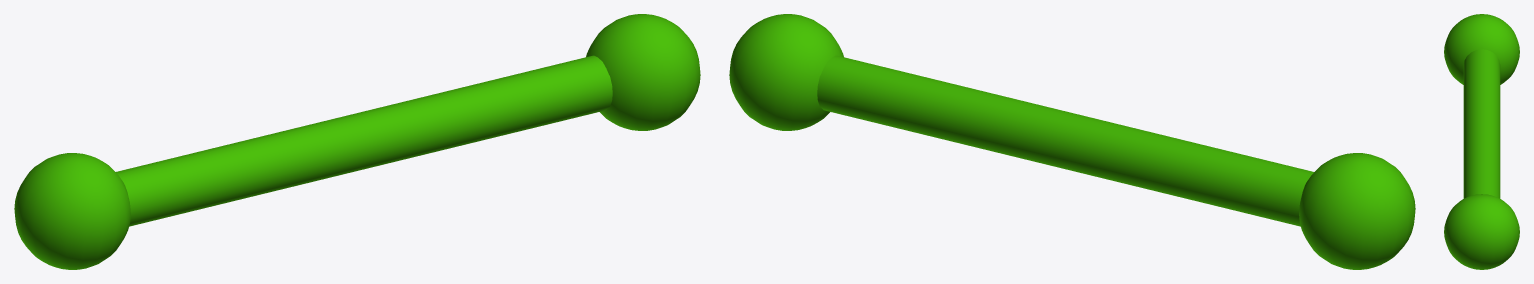
File: Grn Line Powerup.fbx
3 renders of one model, left to right at view 1: azimuth 30°, elevation 25°; view 2: azimuth 150°, elevation 25°; view 3: azimuth 270°, elevation 25°, orthographic. The views are drawn at different scales.
Visible parts, largest first — view 1: pCylinder2, pSphere2, pSphere1; view 2: pCylinder2, pSphere2, pSphere1; view 3: pCylinder2, pSphere1, pSphere2.
Boxes of the visible parts, x1=… form: pCylinder2: x1=115, y1=55, x2=612, y2=226; pSphere2: x1=14, y1=153, x2=130, y2=269; pSphere1: x1=586, y1=14, x2=700, y2=130; pCylinder2: x1=817, y1=55, x2=1314, y2=226; pSphere2: x1=1299, y1=153, x2=1415, y2=269; pSphere1: x1=729, y1=14, x2=843, y2=130; pCylinder2: x1=1463, y1=49, x2=1500, y2=198; pSphere1: x1=1444, y1=194, x2=1519, y2=269; pSphere2: x1=1444, y1=14, x2=1519, y2=84.
Size of the model in its own units: 27.36 by 4.14 by 4.14.
